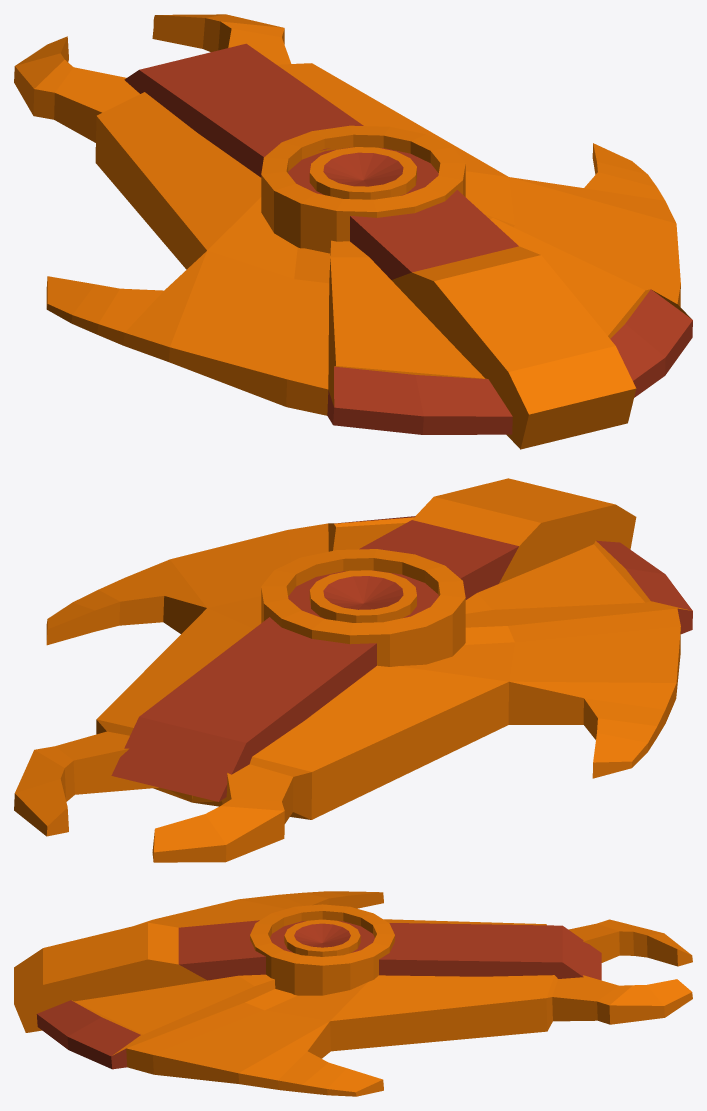
Rendered from Card_Scout_i.fbx.
3 renders of one model, top to bottom at view 1: azimuth 30°, elevation 25°; view 2: azimuth 150°, elevation 25°; view 3: azimuth 270°, elevation 25°, orthographic. The views are drawn at different scales.
Parts seen in each view (by area): view 1: hidekei; view 2: hidekei; view 3: hidekei.
Boxes of the visible parts, box(x1,y1,x2,y2) form: hidekei: box(14, 14, 692, 449); hidekei: box(14, 478, 692, 862); hidekei: box(14, 891, 692, 1096).
Bounding box in the file's own units: 6.37 × 1.19 × 9.1.
